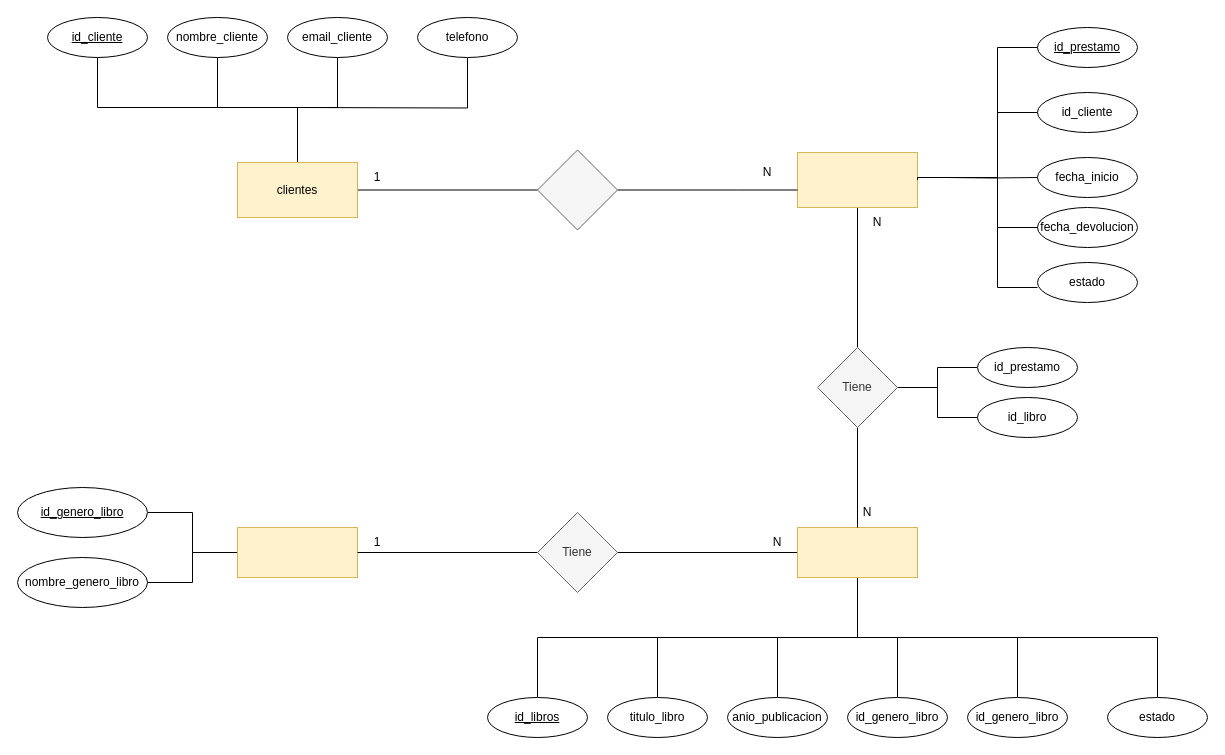
This 1225x755 diagram has some shape labels left out. Each missing label, with the centre of its shape:
"generos_libros" belongs at (x=297, y=552).
"Hace" belongs at (x=577, y=189).
"libros" belongs at (x=857, y=552).
"prestamos" belongs at (x=857, y=180).
